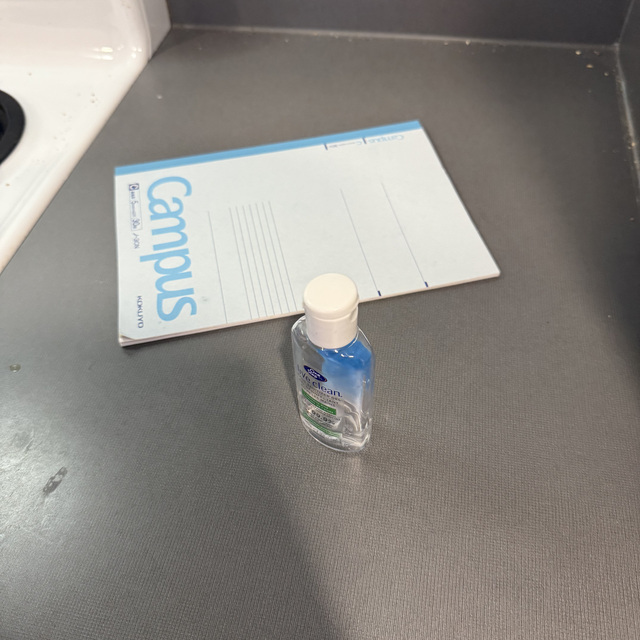Paper: (95, 126, 491, 312)
Sanitizer: (267, 269, 417, 487)
